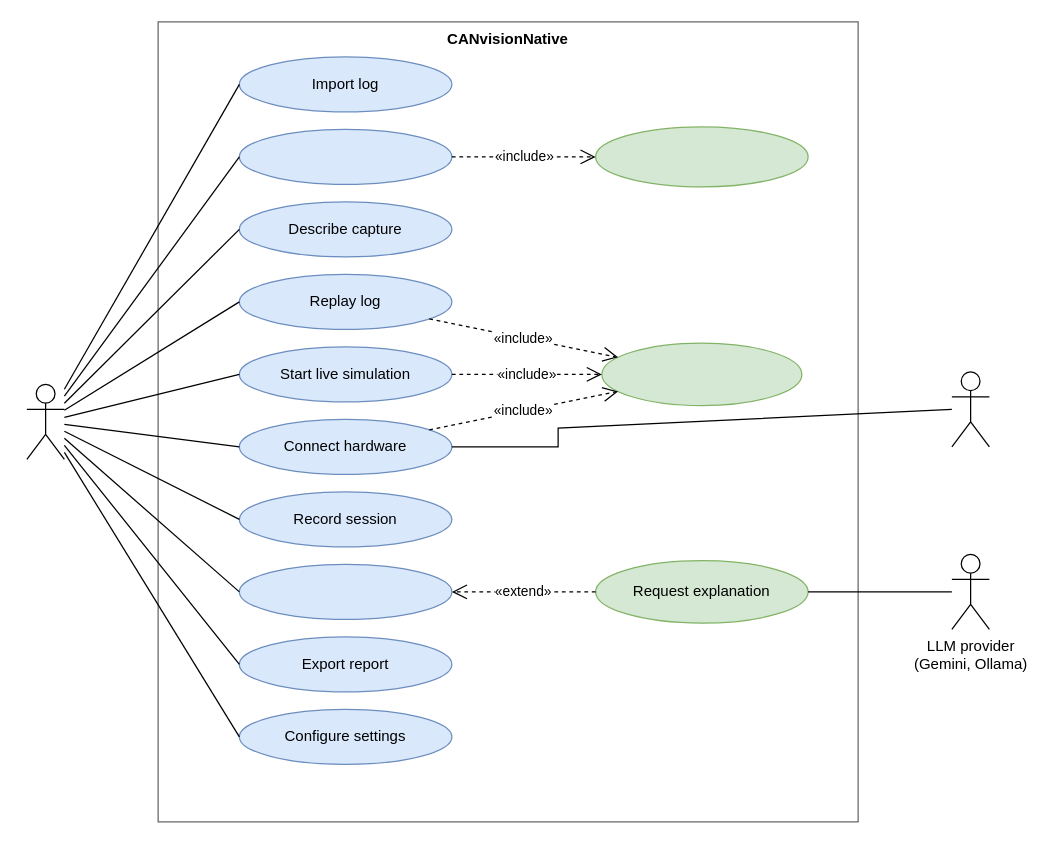
Some shapes in this 1049 by 844 pixel diagram are drawn without their labels. The shapes that lost their labels are listed below. From the top down, each one's centre as x and y in pixels, then its label:
At point (345, 156): "Select vehicle".
At point (701, 156): "Check model status".
At point (701, 374): "Detect anomaly".
At point (45, 421): "Analyst".
At point (970, 409): "Vehicle or CAN bus".
At point (345, 591): "Review alerts".
